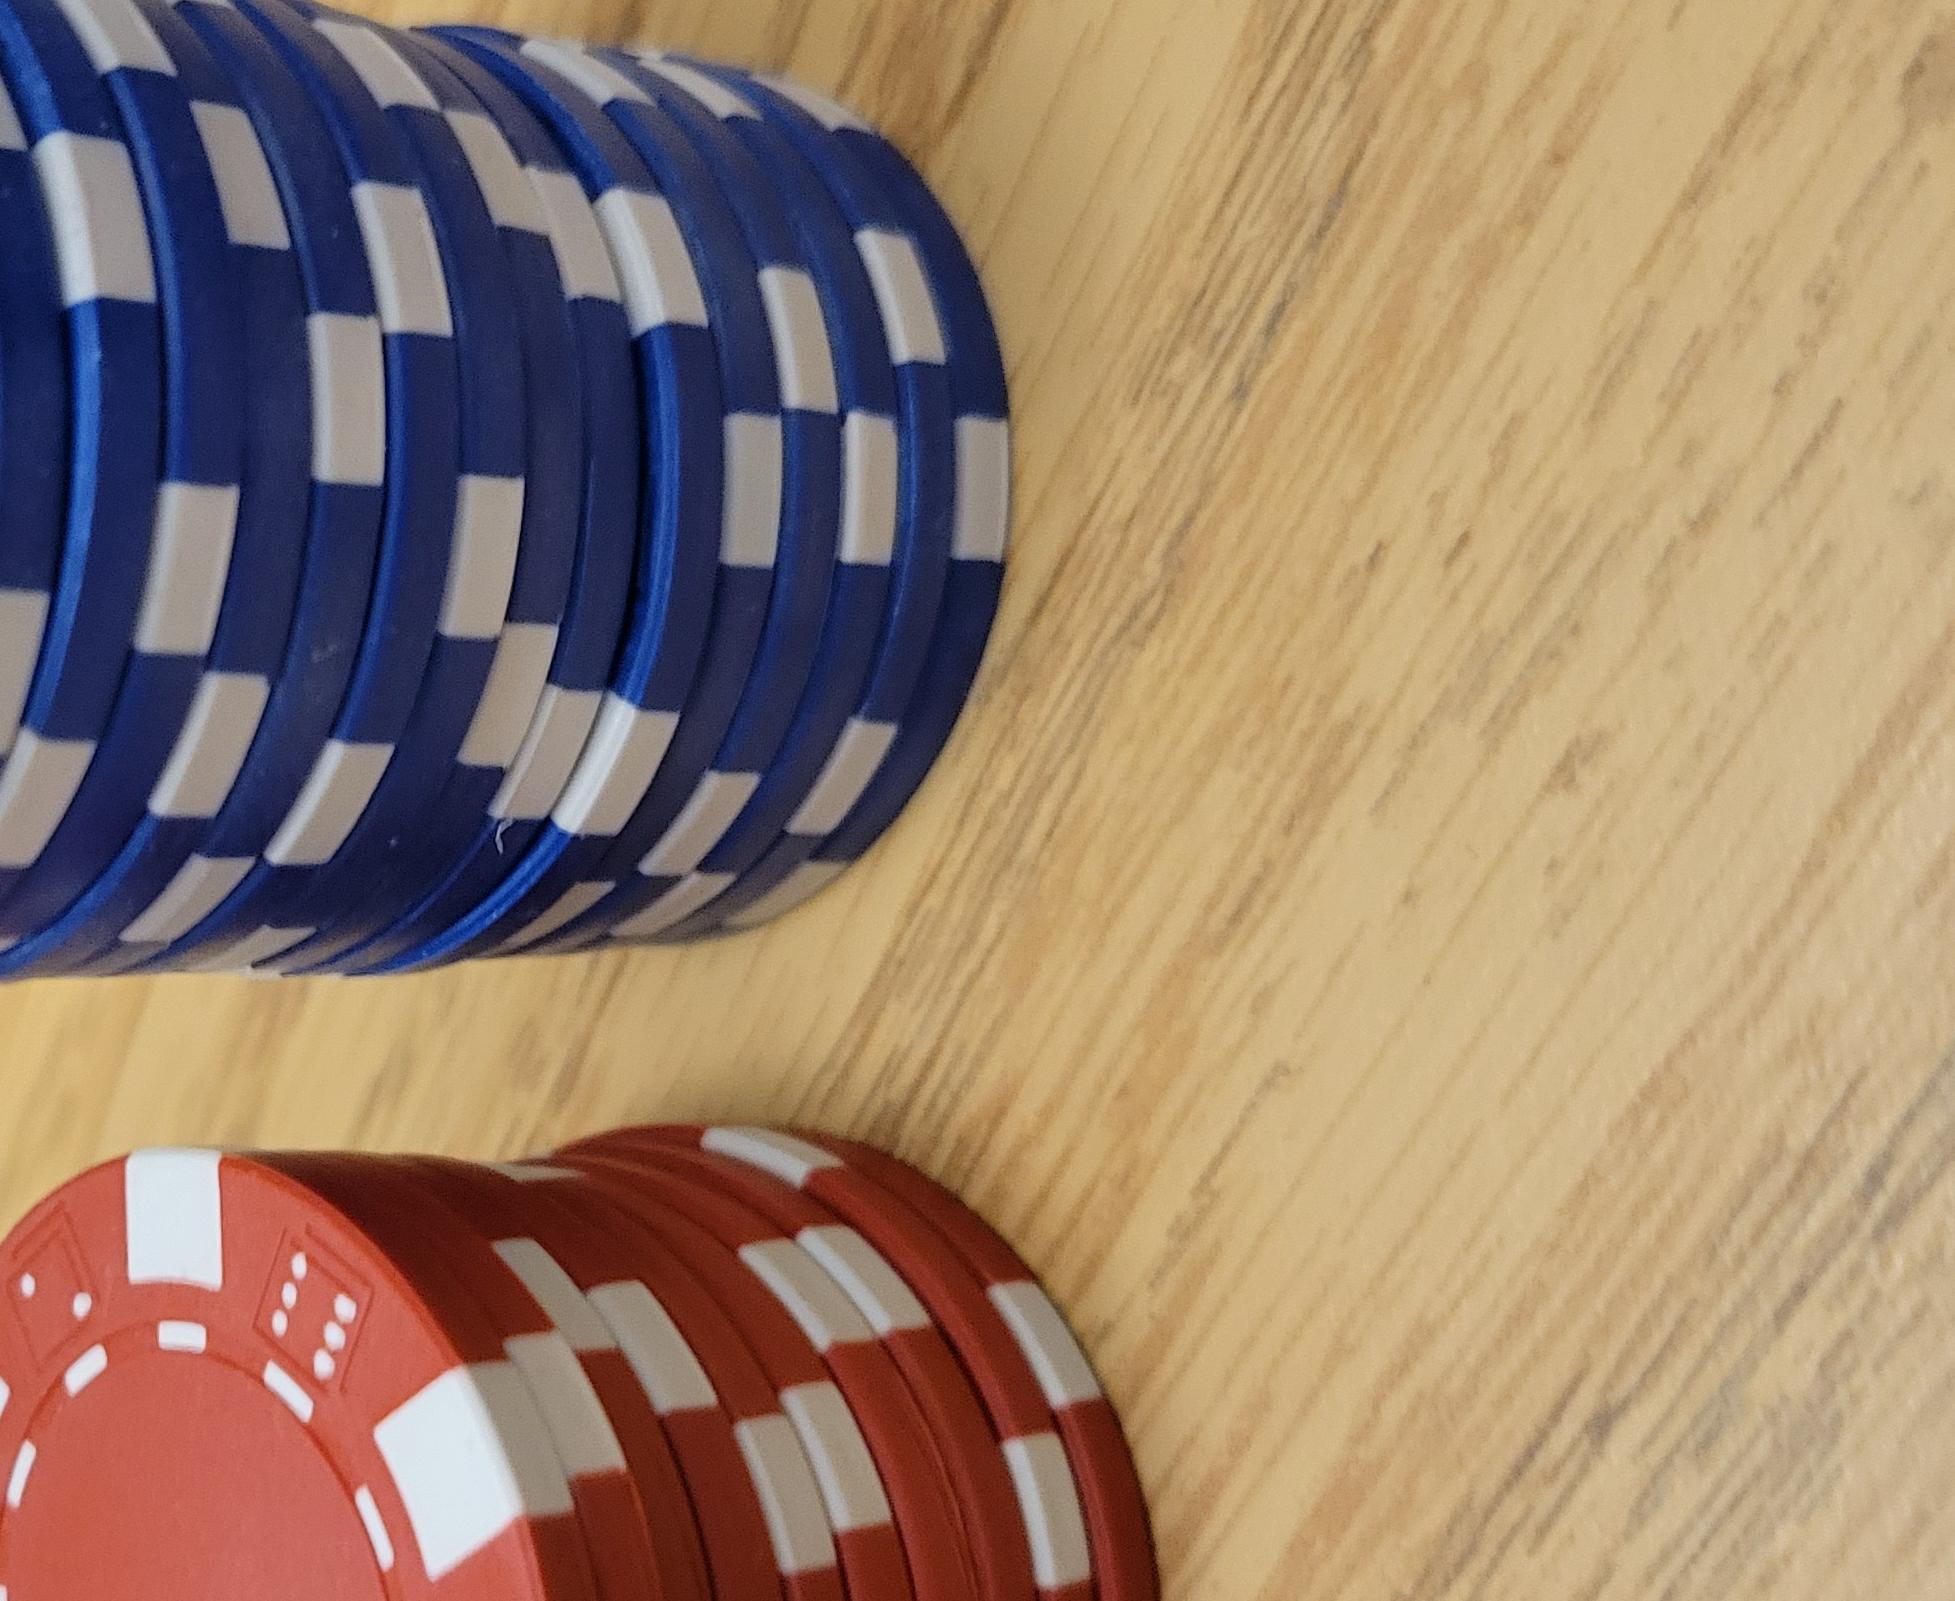Chip: (2, 192, 1025, 1601)
